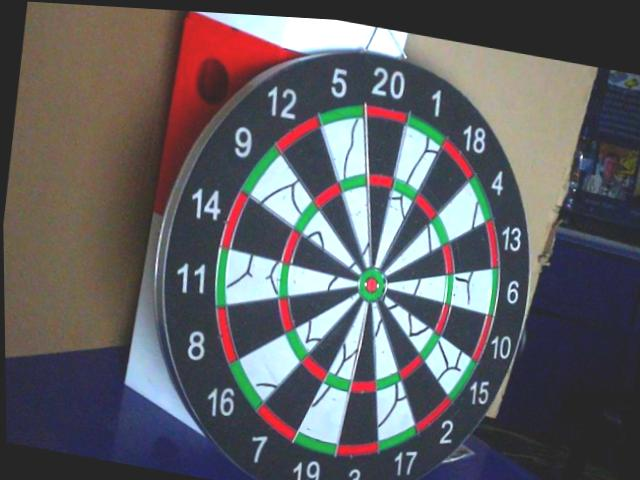bullseye: (362, 276, 381, 295)
